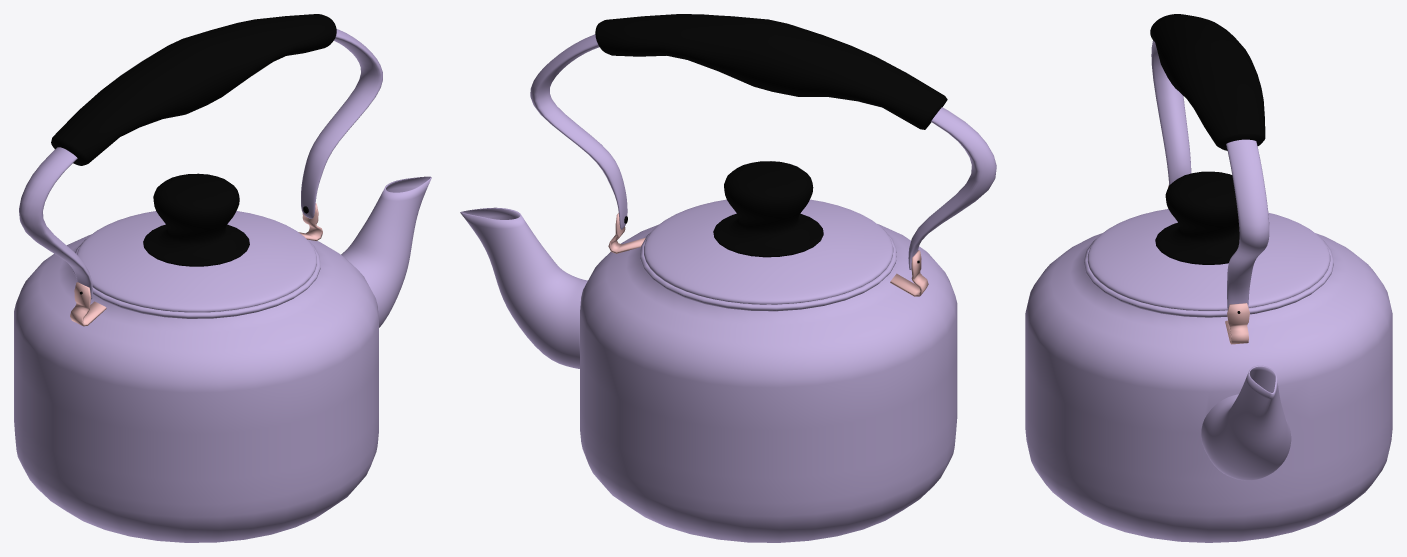
File: kettle.fbx
The picture shows the model from 3 angles, left to right: view 1: azimuth 30°, elevation 25°; view 2: azimuth 150°, elevation 25°; view 3: azimuth 270°, elevation 25°; orthographic projection. The views are drawn at different scales.
Visible parts, largest first — view 1: kettle, Cylinder, Circle.003, Circle.004, Cube, Circle.002, Plane; view 2: kettle, Cylinder, Circle.003, Circle.002, Circle.004, Cube, Plane; view 3: kettle, Circle.003, Cylinder, Cube, Circle.002, Circle.004, Plane.
Boxes of the visible parts, x1=… form: kettle: x1=14, y1=234, x2=378, y2=542; Cylinder: x1=51, y1=14, x2=336, y2=165; Circle.003: x1=77, y1=211, x2=316, y2=312; Circle.004: x1=143, y1=173, x2=249, y2=266; Cube: x1=19, y1=29, x2=382, y2=299; Circle.002: x1=341, y1=176, x2=431, y2=327; Plane: x1=70, y1=203, x2=322, y2=326; kettle: x1=580, y1=224, x2=957, y2=542; Cylinder: x1=595, y1=14, x2=947, y2=129; Circle.003: x1=644, y1=199, x2=893, y2=304; Circle.002: x1=460, y1=207, x2=587, y2=368; Circle.004: x1=713, y1=161, x2=823, y2=257; Cube: x1=530, y1=34, x2=996, y2=269; Plane: x1=608, y1=213, x2=928, y2=296; kettle: x1=1025, y1=233, x2=1392, y2=542; Circle.003: x1=1087, y1=209, x2=1330, y2=310; Cylinder: x1=1150, y1=14, x2=1265, y2=150; Cube: x1=1151, y1=40, x2=1269, y2=310; Circle.002: x1=1201, y1=365, x2=1291, y2=480; Circle.004: x1=1155, y1=171, x2=1239, y2=264; Plane: x1=1168, y1=185, x2=1249, y2=344.
Bounding box in the file's own units: 40.91 × 37.28 × 27.9.
